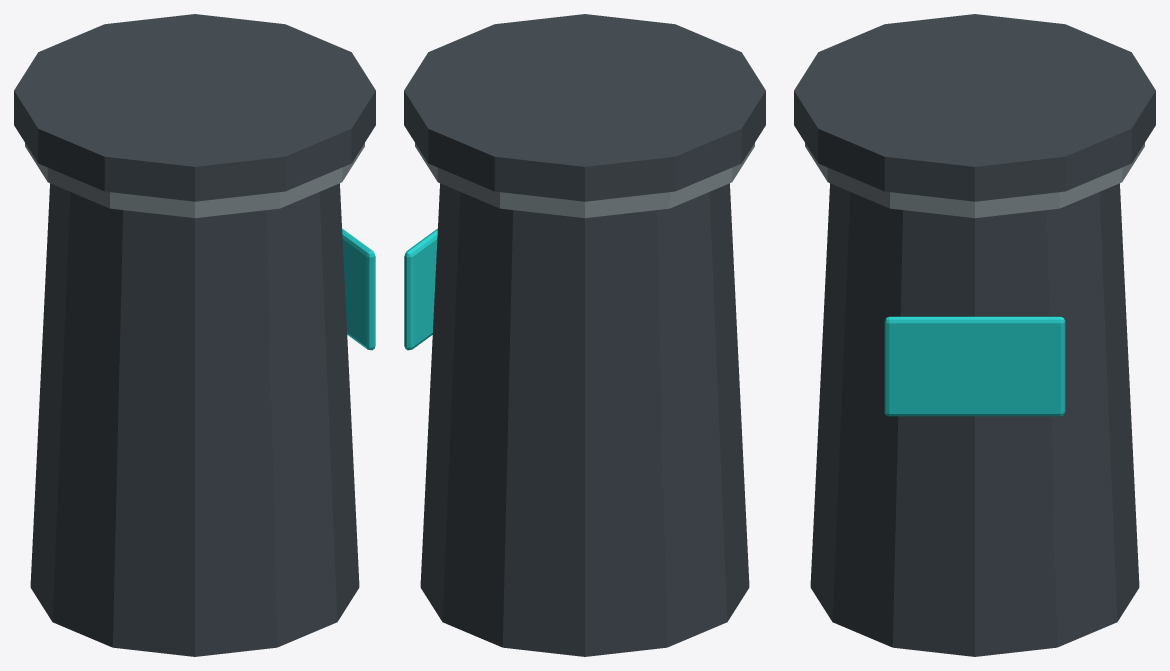
File: Bin.fbx
3 views of the same model, side by side, from view 1: azimuth 30°, elevation 25°; view 2: azimuth 150°, elevation 25°; view 3: azimuth 270°, elevation 25° (orthographic).
Parts seen in each view (by area): view 1: Bin; view 2: Bin; view 3: Bin.
Part boxes in pixels (x1,y1,x2,y2): Bin: (14,14,375,656); Bin: (404,14,765,656); Bin: (794,14,1155,656).
Size of the model in its own units: 66 by 100 by 66.
